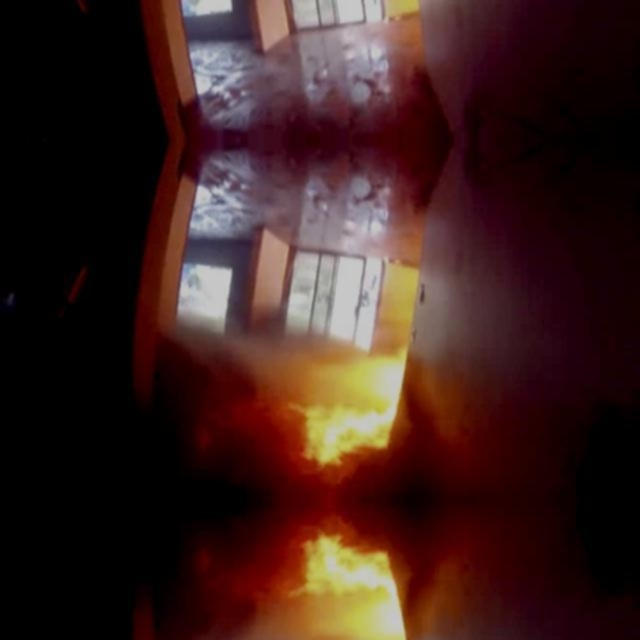fire: (246, 317, 463, 640)
